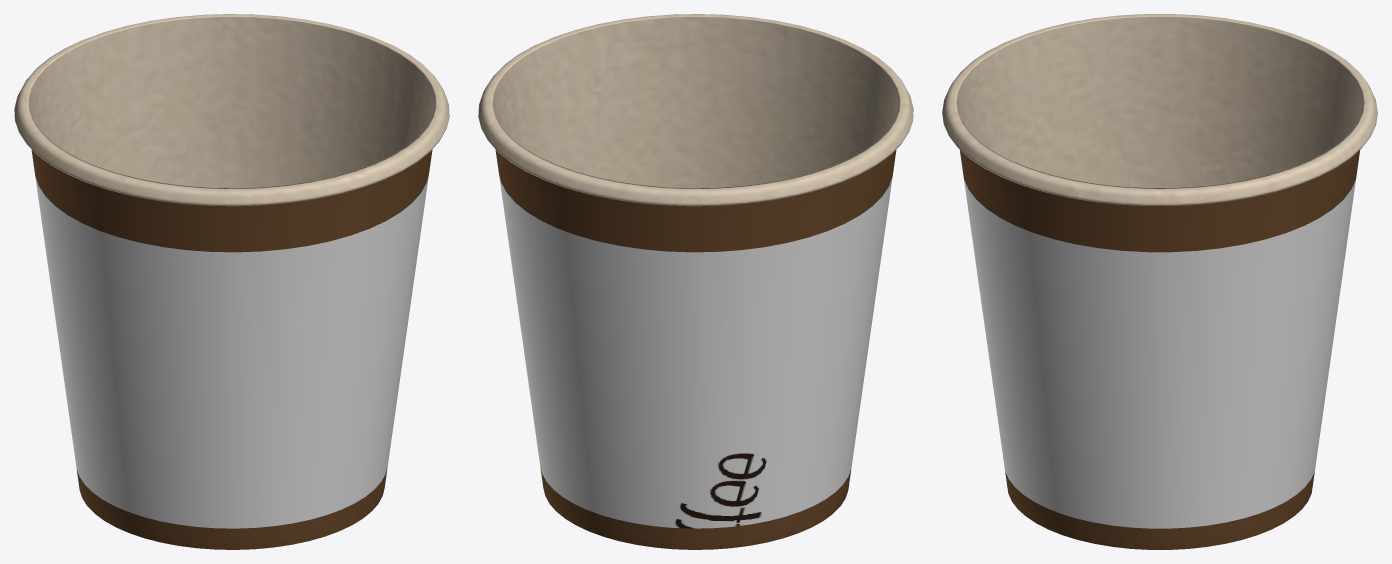
File: paper-cup_1.glb
3 views of the same model, side by side, from view 1: azimuth 30°, elevation 25°; view 2: azimuth 150°, elevation 25°; view 3: azimuth 270°, elevation 25° (orthographic).
Parts seen in each view (by area): view 1: Coffee Paper Cups.001; view 2: Coffee Paper Cups.001; view 3: Coffee Paper Cups.001.
Boxes of the visible parts, x1,y1,x2,y2 form: Coffee Paper Cups.001: (14,14,449,549); Coffee Paper Cups.001: (478,14,913,549); Coffee Paper Cups.001: (942,14,1377,549).
Bounding box in the file's own units: 0.0799 × 0.0777 × 0.0801.
3 materials, 2 textured.
